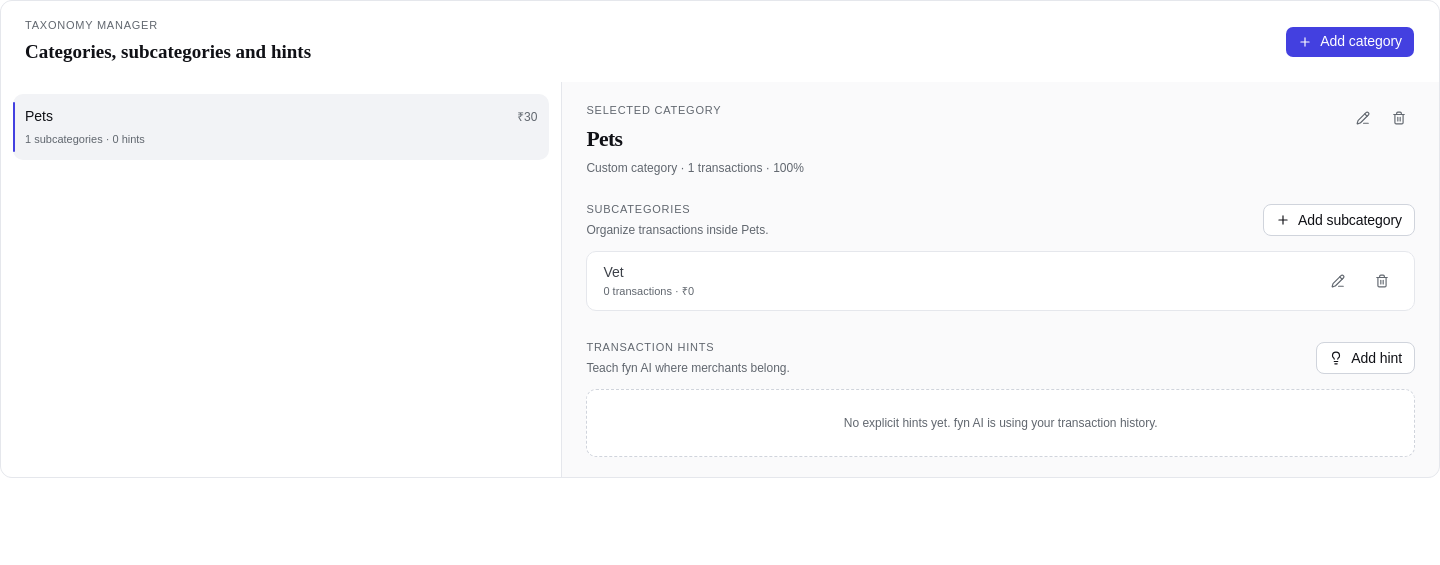
Scenario: CategoryManager › explains an in-use category instead of sending a delete
This screenshot has width=1440, height=565.
Click the button named "Delete Pets": (1399, 118) [1383, 102, 1415, 134]
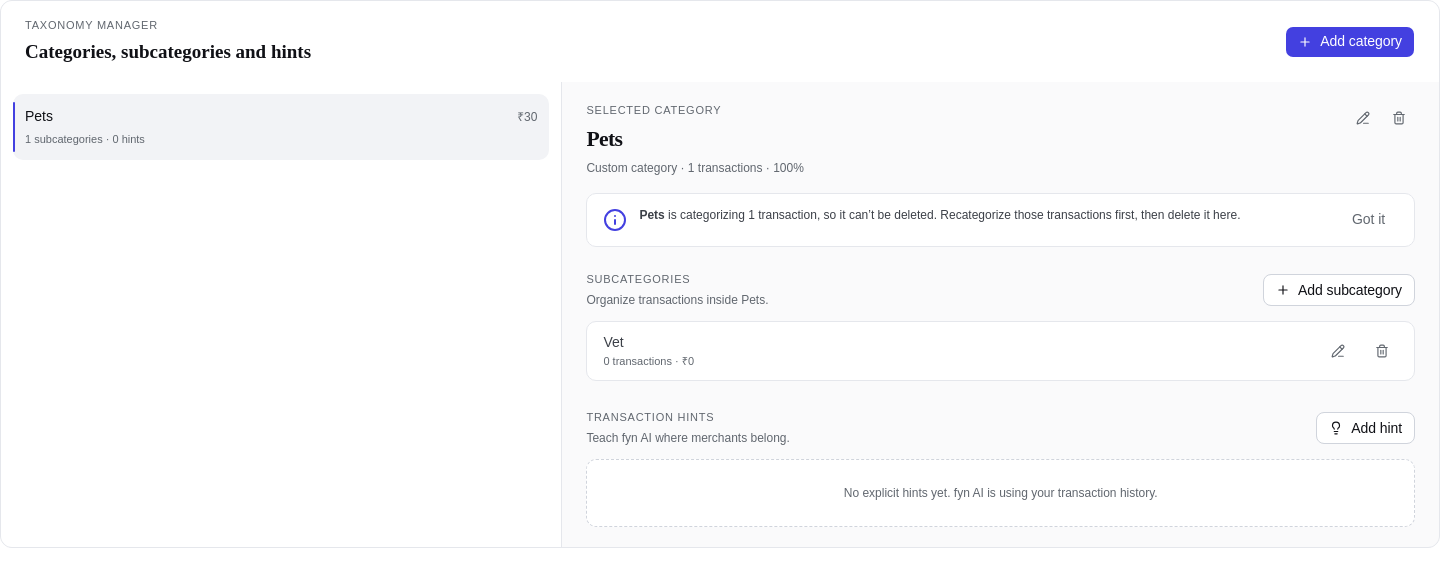
Expected: the message shows "Pets is categorizing 1 transaction", [586, 193, 1415, 247]
Click the button "Got it": (1368, 220) [1339, 206, 1398, 234]
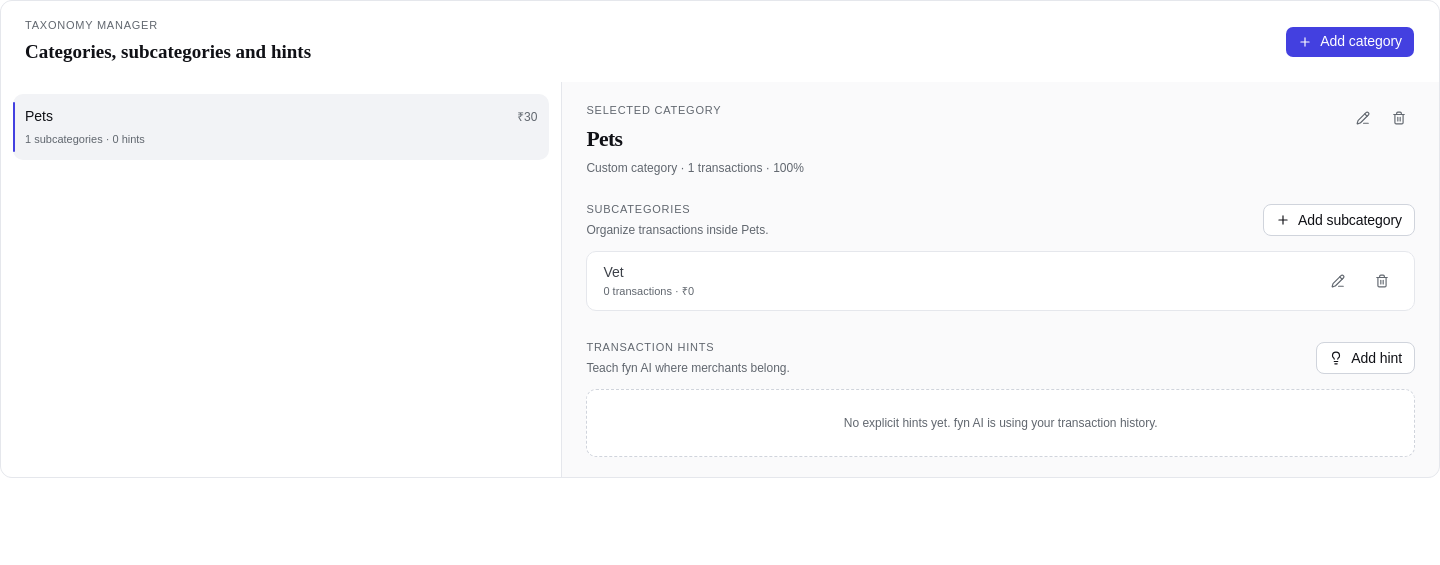
Expected: the message is gone
